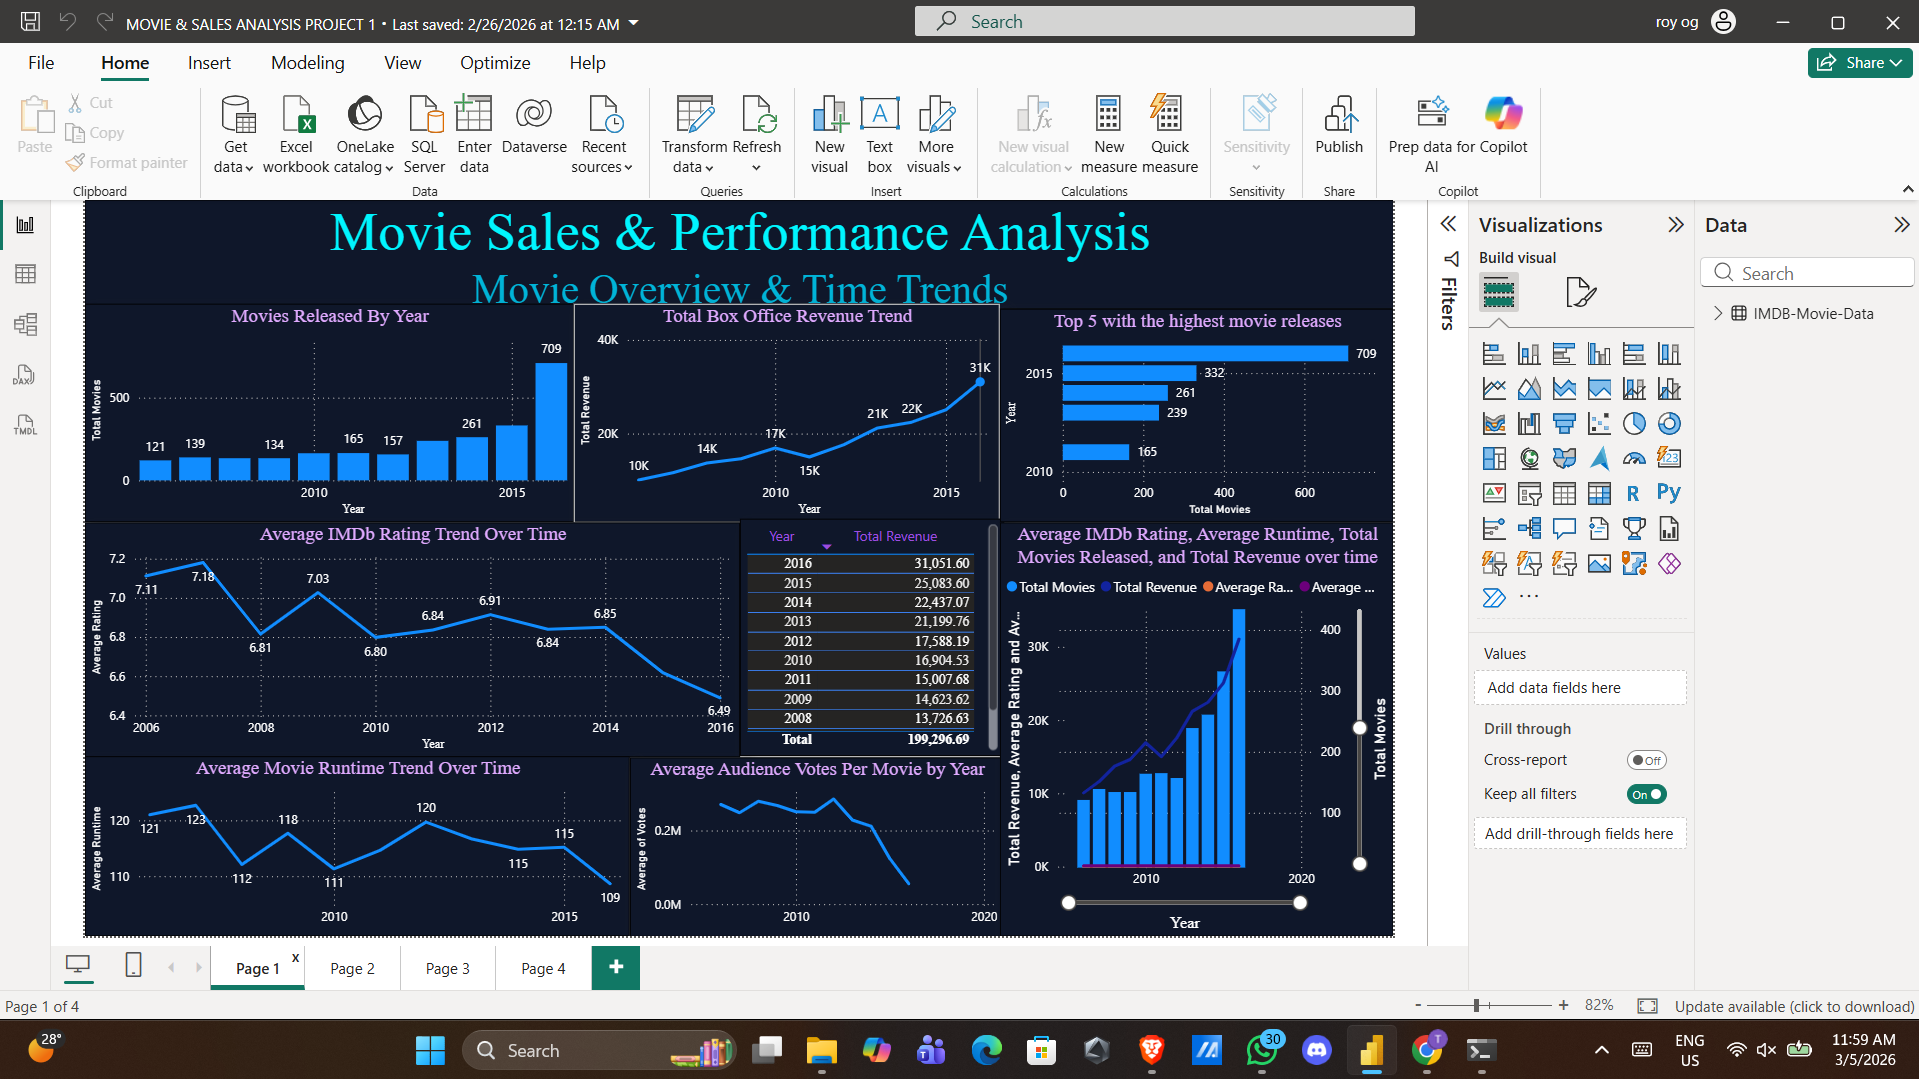

What the dashboard file says about the page in this screenshot:
{"tool":"powerbi","page":{"name":"Page 1","canvas":[1280,720],"ordinal":0},"visuals":[{"type":"textbox","title":" Movie Sales & Performance Analysis","box":[0,0,1280.3,106.4],"z":0},{"type":"clusteredColumnChart","title":"Movies Released By Year","fields":{"Category":["IMDB-Movie-Data.Year"],"Y":["IMDB-Movie-Data.Total Movies"]},"box":[0,101.5,478.1,214],"z":1000},{"type":"lineChart","title":"Total Box Office Revenue Trend","fields":{"Category":["IMDB-Movie-Data.Year"],"Y":["IMDB-Movie-Data.Total Revenue"]},"box":[478.1,101.5,417,214],"z":2000},{"type":"lineChart","title":"Average IMDb Rating Trend Over Time","fields":{"Category":["IMDB-Movie-Data.Year"],"Y":["IMDB-Movie-Data.Average Rating"]},"box":[0,315.5,640.8,229.9],"z":3000},{"type":"lineChart","title":"Average Movie Runtime Trend Over Time","fields":{"Category":["IMDB-Movie-Data.Year"],"Y":["IMDB-Movie-Data.Average Runtime"]},"box":[0,544.2,533.2,176.1],"z":4000},{"type":"tableEx","fields":{"Values":["IMDB-Movie-Data.Year","IMDB-Movie-Data.Total Revenue"]},"box":[640.8,311.8,258,232.3],"z":5000},{"type":"clusteredBarChart","title":"Top 5 with the highest movie releases","fields":{"Category":["IMDB-Movie-Data.Year"],"Y":["IMDB-Movie-Data.Total Movies"]},"box":[895.1,106.4,385.2,209.1],"z":6000},{"type":"lineChart","title":"Average Audience Votes Per Movie by Year","fields":{"Category":["IMDB-Movie-Data.Year"],"Y":["Avg(IMDB-Movie-Data.Votes)"]},"box":[533.2,545.4,365.6,174.9],"z":7000},{"type":"lineClusteredColumnComboChart","title":"Average IMDb Rating, Average Runtime, Total Movies Released, and Total Revenue over time","fields":{"Category":["IMDB-Movie-Data.Year"],"Y":["IMDB-Movie-Data.Total Movies"],"Y2":["IMDB-Movie-Data.Total Revenue","IMDB-Movie-Data.Average Rating","IMDB-Movie-Data.Average Runtime"]},"box":[895.1,315.5,385.2,404.8],"z":8000}]}

Visuals, with their boxes on the page's 1280x720 design canvas (x1, y1, x2, y2). These are canvas units, not pixel positions in the 1919x1079 screenshot, which may show the page scaled, cropped or inside an application window:
" Movie Sales & Performance Analysis" textbox: x1=0 y1=0 x2=1280 y2=106
"Movies Released By Year" clusteredColumnChart: x1=0 y1=102 x2=478 y2=316
"Total Box Office Revenue Trend" lineChart: x1=478 y1=102 x2=895 y2=316
"Average IMDb Rating Trend Over Time" lineChart: x1=0 y1=316 x2=641 y2=545
"Average Movie Runtime Trend Over Time" lineChart: x1=0 y1=544 x2=533 y2=720
tableEx - IMDB-Movie-Data.Year x IMDB-Movie-Data.Total Revenue: x1=641 y1=312 x2=899 y2=544
"Top 5 with the highest movie releases" clusteredBarChart: x1=895 y1=106 x2=1280 y2=316
"Average Audience Votes Per Movie by Year" lineChart: x1=533 y1=545 x2=899 y2=720
"Average IMDb Rating, Average Runtime, Total Movies Released, and Total Revenue over time" lineClusteredColumnComboChart: x1=895 y1=316 x2=1280 y2=720
